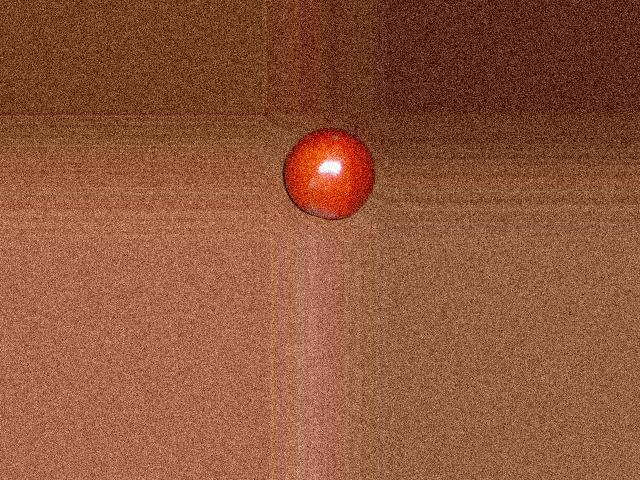tomato: (283, 127, 376, 219)
